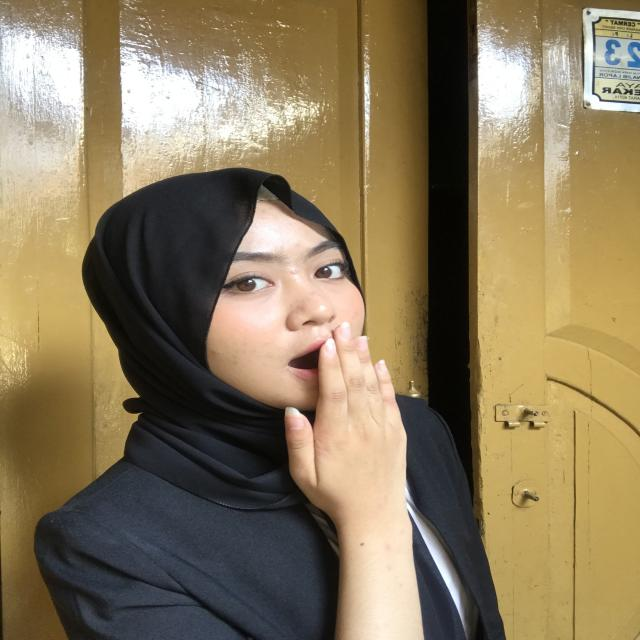ngantuk: (253, 322, 428, 552)
